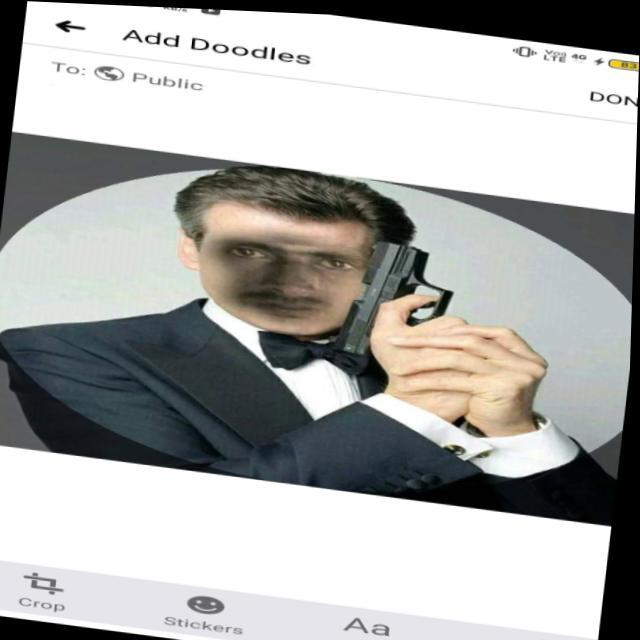weapon: (321, 229, 541, 385)
